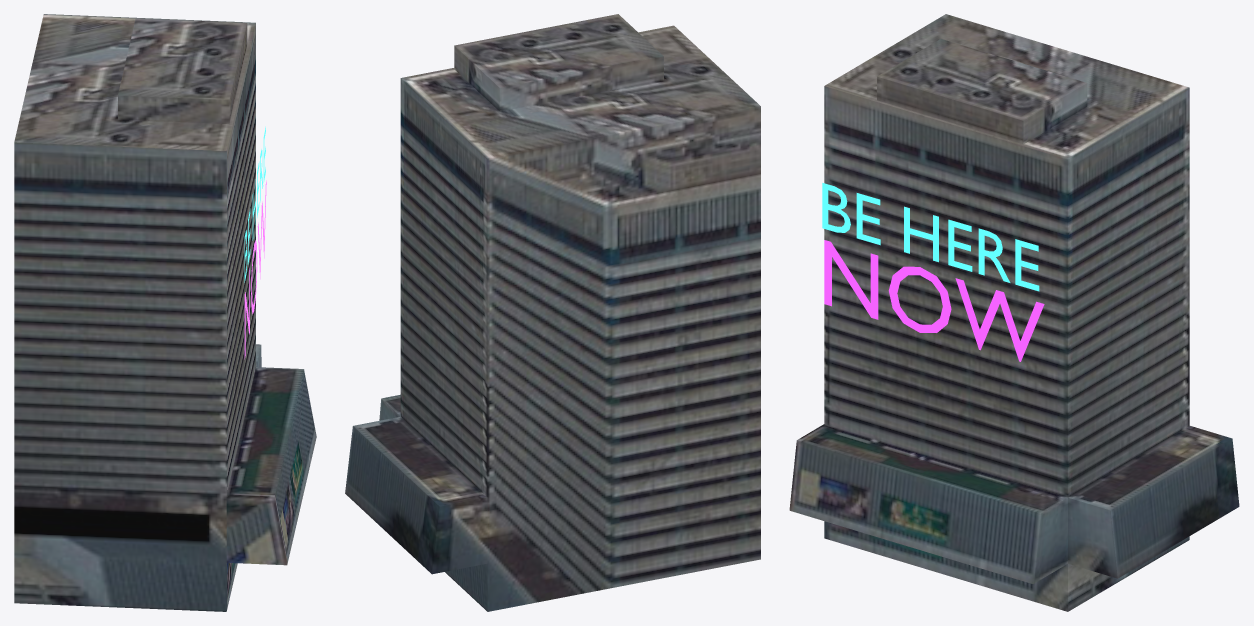
File: bldg_hutchinsonHouse.glb
3 renders of one model, left to right at view 1: azimuth 30°, elevation 25°; view 2: azimuth 150°, elevation 25°; view 3: azimuth 270°, elevation 25°, orthographic.
Visible parts, largest first — view 1: bldg_hutchinsonHouse, lights_hutchinsonHouse1b, lights_hutchinsonHouse1a; view 2: bldg_hutchinsonHouse; view 3: bldg_hutchinsonHouse, lights_hutchinsonHouse1b, lights_hutchinsonHouse1a.
Boxes of the visible parts, box(x1,y1,x2,y2) form: bldg_hutchinsonHouse: box(14, 14, 316, 611); lights_hutchinsonHouse1b: box(244, 180, 266, 359); lights_hutchinsonHouse1a: box(244, 126, 265, 282); bldg_hutchinsonHouse: box(345, 14, 760, 611); bldg_hutchinsonHouse: box(789, 14, 1239, 611); lights_hutchinsonHouse1b: box(824, 240, 1044, 361); lights_hutchinsonHouse1a: box(822, 183, 1039, 291).
Size of the model in its own units: 6.4 by 8.55 by 7.33.
Materials: 3 (1 with a texture image).
